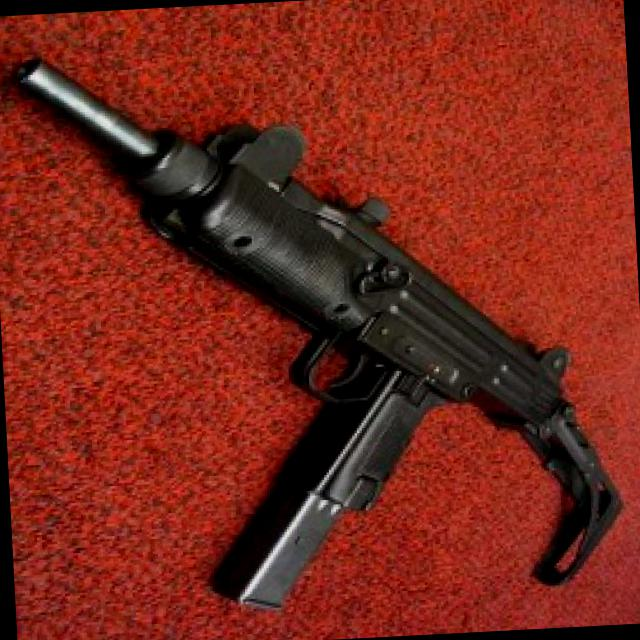long weapon: (9, 42, 640, 629)
